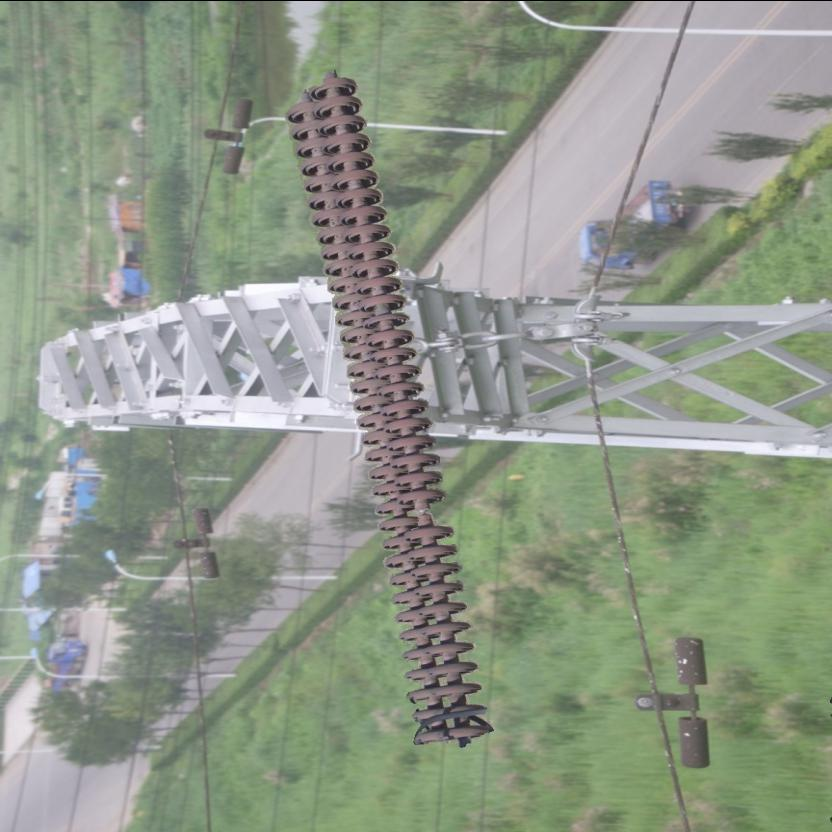defect: (392, 480, 454, 542)
